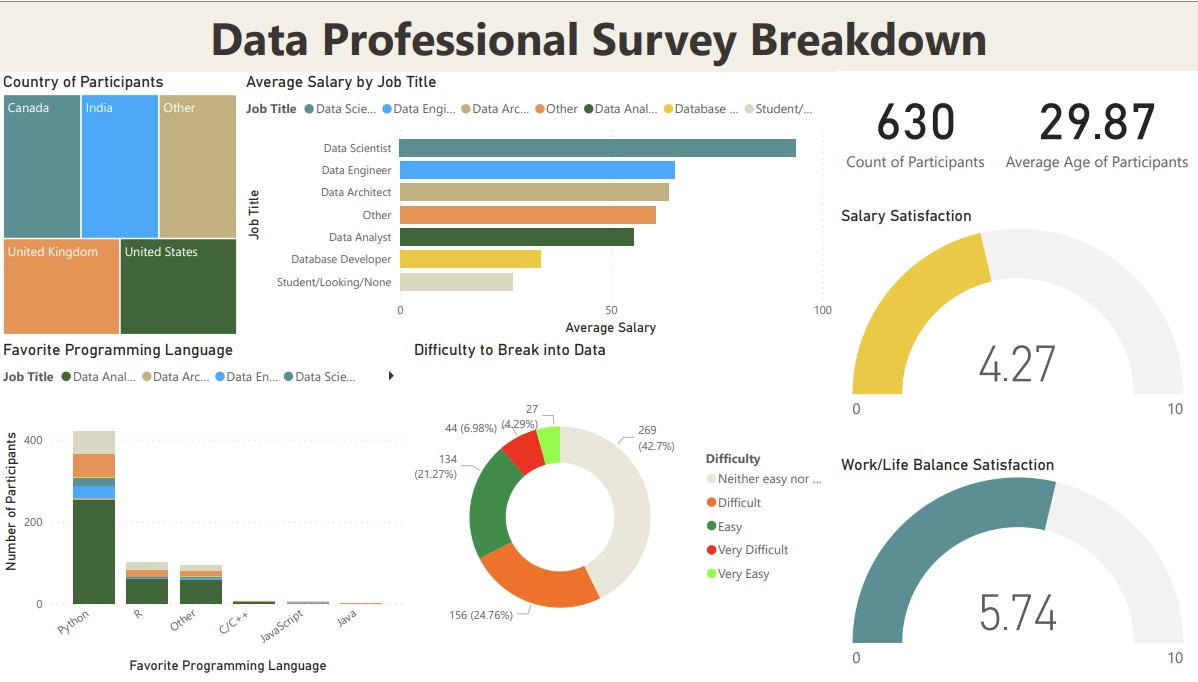

This screenshot's page, from the dashboard's own definition file:
{"tool":"powerbi","page":{"name":"Page 1","canvas":[1280,720],"ordinal":0},"visuals":[{"type":"textbox","box":[0,0,1280,75.2],"z":0},{"type":"card","fields":{"Values":["Count(Data Professional Survey.Unique ID)"]},"box":[892.7,75.4,169.4,112.7],"z":1000},{"type":"card","fields":{"Values":["Avg(Data Professional Survey.Q10 - Current Age)"]},"box":[1062.2,75.4,217.8,112.7],"z":2000},{"type":"barChart","title":"Average Salary by Job Title","fields":{"Category":["Data Professional Survey.Q1 - Which Title Best Fits your Current Role?.1"],"Y":["Avg(Data Professional Survey.Average Salary)"],"Series":["Data Professional Survey.Q1 - Which Title Best Fits your Current Role?.1"]},"box":[258.6,75.4,634.1,284.9],"z":3000},{"type":"columnChart","title":"Favorite Programming Language","fields":{"Category":["Data Professional Survey.Q5 - Favorite Programming Language.1"],"Y":["CountNonNull(Data Professional Survey.Unique ID)"],"Series":["Data Professional Survey.Q1 - Which Title Best Fits your Current Role?.1"]},"box":[0,360.3,437.7,359.6],"z":4000},{"type":"treemap","title":"Country of Participants","fields":{"Group":["Data Professional Survey.Q11 - Which Country do you live in?.1"],"Values":["Count(Data Professional Survey.Q11 - Which Country do you live in?.1)"]},"box":[0,75.4,258.6,284.9],"z":5000},{"type":"gauge","title":"Work/Life Balance Satisfaction","fields":{"Y":["Avg(Data Professional Survey.Q6 - How Happy are you in your Current Position with the following? (Work/Life Balance))"],"MinValue":["Min(Data Professional Survey.Q6 - How Happy are you in your Current Position with the following? (Work/Life Balance))"],"MaxValue":["Max(Data Professional Survey.Q6 - How Happy are you in your Current Position with the following? (Work/Life Balance))"]},"box":[892.7,482.7,387.3,237.2],"z":6000},{"type":"gauge","title":"Salary Satisfaction","fields":{"Y":["Avg(Data Professional Survey.Q6 - How Happy are you in your Current Position with the following? (Salary))"],"MinValue":["Min(Data Professional Survey.Q6 - How Happy are you in your Current Position with the following? (Salary))"],"MaxValue":["Max(Data Professional Survey.Q6 - How Happy are you in your Current Position with the following? (Salary))"]},"box":[892.7,217.8,387.3,237.2],"z":7000},{"type":"donutChart","title":"Difficulty to Break into Data","fields":{"Y":["CountNonNull(Data Professional Survey.Q7 - How difficult was it for you to break into Data?)"],"Category":["Data Professional Survey.Q7 - How difficult was it for you to break into Data?"]},"box":[437.7,360.3,455,359.6],"z":8000}]}

Visuals, with their boxes in screenshot pixels (x1, y1, x2, y2), scaled from the page's 1280x720 canvas onto the 1198x682 screenshot:
textbox: [0, 0, 1197, 71]
card - Count(Data Professional Survey.Unique ID): [836, 71, 994, 178]
card - Avg(Data Professional Survey.Q10 - Current Age): [994, 71, 1197, 178]
"Average Salary by Job Title" barChart: [242, 71, 836, 341]
"Favorite Programming Language" columnChart: [0, 341, 410, 681]
"Country of Participants" treemap: [0, 71, 242, 341]
"Work/Life Balance Satisfaction" gauge: [836, 457, 1197, 681]
"Salary Satisfaction" gauge: [836, 206, 1197, 431]
"Difficulty to Break into Data" donutChart: [410, 341, 836, 681]
